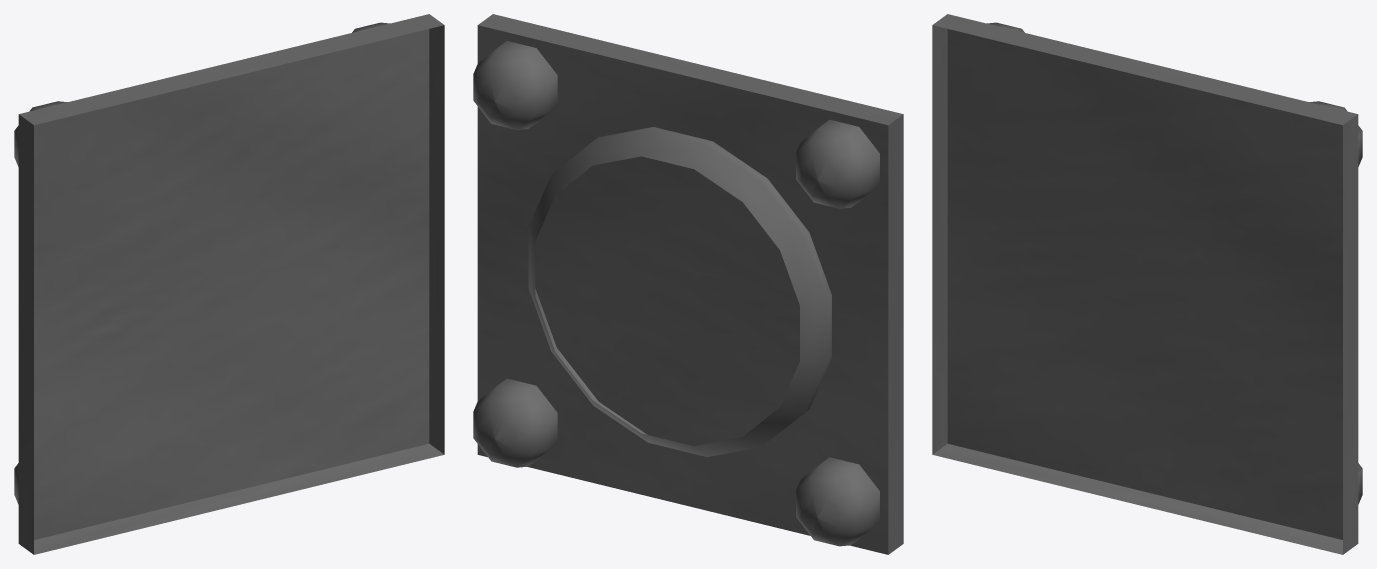
File: polebase_thin_square.obj
3 views of the same model, side by side, from view 1: azimuth 30°, elevation 25°; view 2: azimuth 150°, elevation 25°; view 3: azimuth 330°, elevation 25° (orthographic).
Parts seen in each view (by area): view 1: polebase_thin_square; view 2: polebase_thin_square; view 3: polebase_thin_square.
Part boxes in pixels (left/top/right/bottom): polebase_thin_square: left=14, top=14, right=444, bottom=554; polebase_thin_square: left=473, top=14, right=903, bottom=554; polebase_thin_square: left=932, top=14, right=1362, bottom=554.
Size of the model in its own units: 0.77 by 0.77 by 0.1369.
